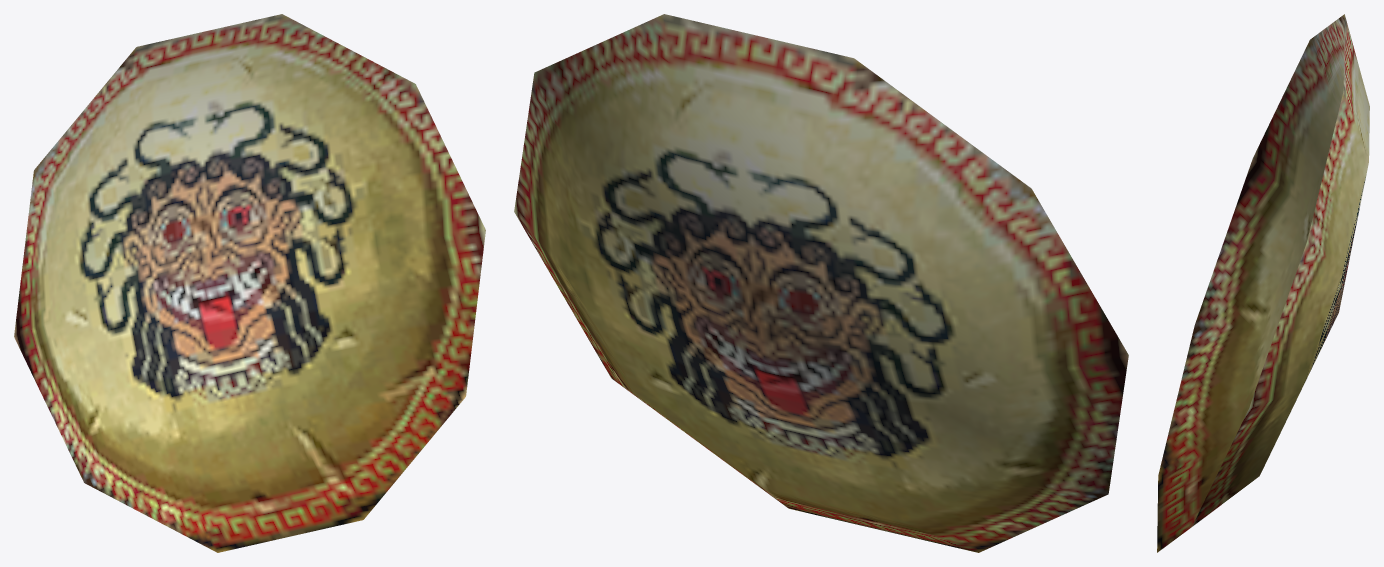
The model's file is aspis_back_f.dae.
3 views of the same model, side by side, from view 1: azimuth 30°, elevation 25°; view 2: azimuth 150°, elevation 25°; view 3: azimuth 270°, elevation 25° (orthographic). The views are drawn at different scales.
Visible parts, largest first — view 1: Cylinder06; view 2: Cylinder06; view 3: Cylinder06.
Part boxes in pixels (left/top/right/bottom): Cylinder06: left=14, top=14, right=485, bottom=552; Cylinder06: left=514, top=14, right=1128, bottom=552; Cylinder06: left=1157, top=14, right=1369, bottom=552.
Bounding box in the file's own units: 2 × 1.8 × 0.7407.
